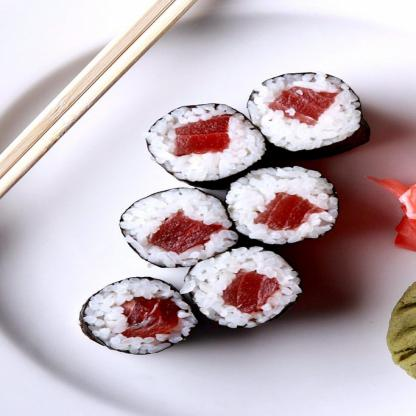tekkamaki: (72, 275, 199, 360)
